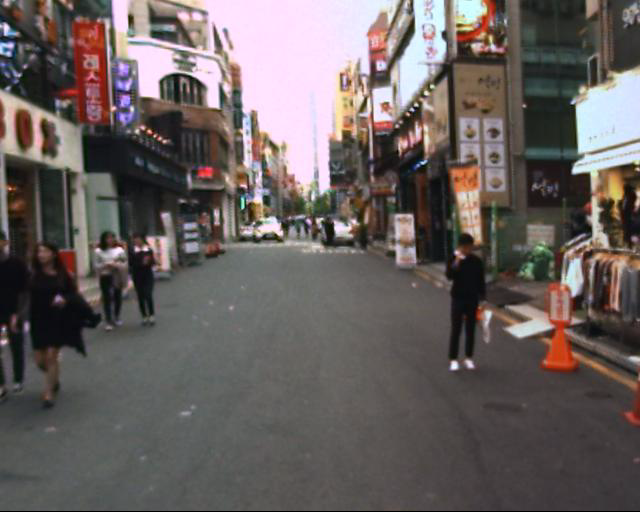person: (20, 228, 93, 425), (435, 218, 488, 385), (0, 217, 42, 399), (98, 215, 135, 342), (124, 215, 158, 344), (319, 210, 344, 258), (302, 207, 325, 253), (288, 206, 309, 251)
